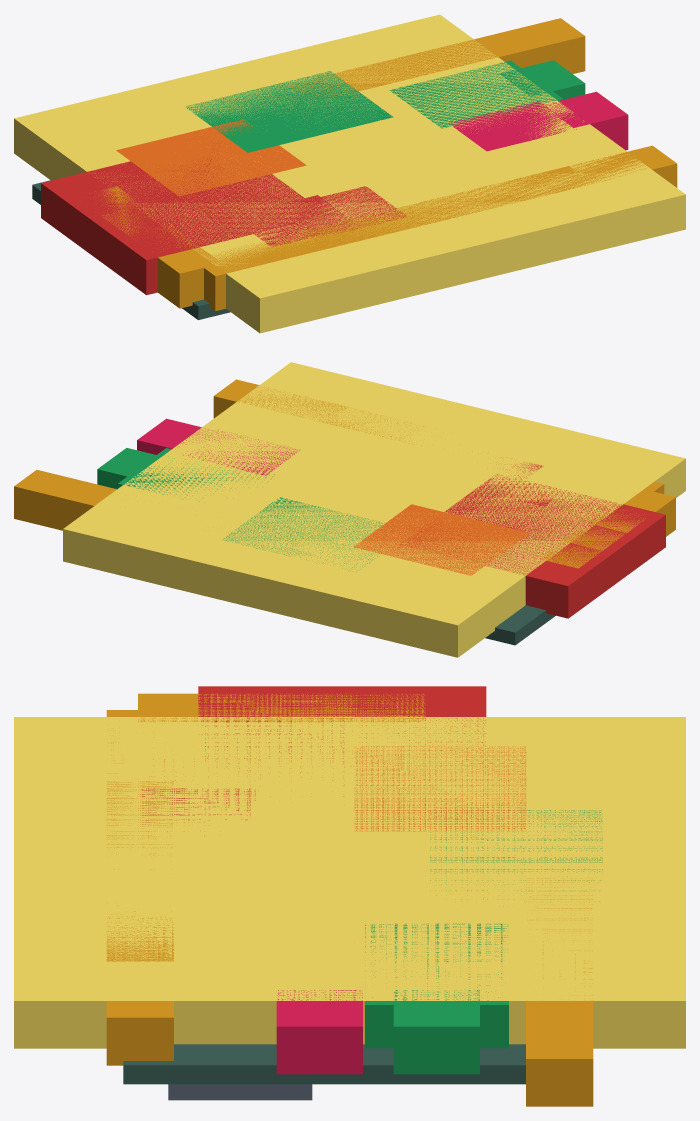
Rendered from BeeBoard_v0_1_Micro_before_fpga_violet.glb.
3 renders of one model, top to bottom at view 1: azimuth 30°, elevation 25°; view 2: azimuth 150°, elevation 25°; view 3: azimuth 270°, elevation 25°, orthographic. The views are drawn at different scales.
Visible parts, largest first — view 1: =>[0:1:1:3], =>[0:1:1:9], =>[0:1:1:7], =>[0:1:1:25], =>[0:1:1:5], =>[0:1:1:13], =>[0:1:1:29], =>[0:1:1:11] (×2), =>[0:1:1:27], =>[0:1:1:31] (×2), =>[0:1:1:23] (×2), =>[0:1:1:15] (+3 smaller); view 2: =>[0:1:1:3], =>[0:1:1:9], =>[0:1:1:5], =>[0:1:1:25], =>[0:1:1:7], =>[0:1:1:23] (×3), =>[0:1:1:31], =>[0:1:1:19], =>[0:1:1:32], =>[0:1:1:17], =>[0:1:1:13], =>[0:1:1:15]; view 3: =>[0:1:1:3], =>[0:1:1:32], =>[0:1:1:9], =>[0:1:1:25], =>[0:1:1:23] (×3), =>[0:1:1:17], =>[0:1:1:19], =>[0:1:1:5], =>[0:1:1:31] (×2), =>[0:1:1:13], =>[0:1:1:21], =>[0:1:1:7] (+2 smaller).
Boxes of the visible parts, left/top/right/bottom form: =>[0:1:1:3]: left=14, top=14, right=685, bottom=333; =>[0:1:1:9]: left=41, top=143, right=328, bottom=295; =>[0:1:1:7]: left=186, top=71, right=393, bottom=152; =>[0:1:1:25]: left=288, top=18, right=585, bottom=99; =>[0:1:1:5]: left=116, top=119, right=306, bottom=196; =>[0:1:1:13]: left=389, top=60, right=563, bottom=128; =>[0:1:1:29]: left=198, top=198, right=469, bottom=311; =>[0:1:1:11] (×2): left=251, top=186, right=406, bottom=246; =>[0:1:1:27]: left=298, top=182, right=564, bottom=245; =>[0:1:1:31] (×2): left=450, top=145, right=677, bottom=213; =>[0:1:1:23] (×2): left=89, top=186, right=221, bottom=308; =>[0:1:1:15]: left=449, top=101, right=576, bottom=151; =>[0:1:1:3]: left=63, top=362, right=685, bottom=657; =>[0:1:1:9]: left=400, top=474, right=665, bottom=618; =>[0:1:1:5]: left=353, top=504, right=529, bottom=575; =>[0:1:1:25]: left=14, top=470, right=255, bottom=545; =>[0:1:1:7]: left=222, top=497, right=382, bottom=569; =>[0:1:1:23] (×3): left=539, top=492, right=675, bottom=568; =>[0:1:1:31]: left=213, top=379, right=348, bottom=421; =>[0:1:1:19]: left=97, top=448, right=161, bottom=489; =>[0:1:1:32]: left=485, top=605, right=555, bottom=645; =>[0:1:1:17]: left=137, top=418, right=213, bottom=454; =>[0:1:1:13]: left=117, top=448, right=274, bottom=501; =>[0:1:1:15]: left=183, top=430, right=300, bottom=475; =>[0:1:1:3]: left=14, top=717, right=685, bottom=1048; =>[0:1:1:32]: left=123, top=1044, right=525, bottom=1084; =>[0:1:1:9]: left=198, top=686, right=486, bottom=802; =>[0:1:1:25]: left=526, top=878, right=593, bottom=1106; =>[0:1:1:23] (×3): left=138, top=693, right=425, bottom=722; =>[0:1:1:17]: left=276, top=990, right=362, bottom=1074; =>[0:1:1:19]: left=393, top=990, right=479, bottom=1074; =>[0:1:1:5]: left=354, top=746, right=526, bottom=831; =>[0:1:1:31] (×2): left=106, top=905, right=173, bottom=1065; =>[0:1:1:13]: left=365, top=923, right=508, bottom=1048; =>[0:1:1:21]: left=168, top=1084, right=312, bottom=1100; =>[0:1:1:7]: left=430, top=810, right=602, bottom=901.
Size of the model in its own units: 0.0233 by 0.00309 by 0.0178.
